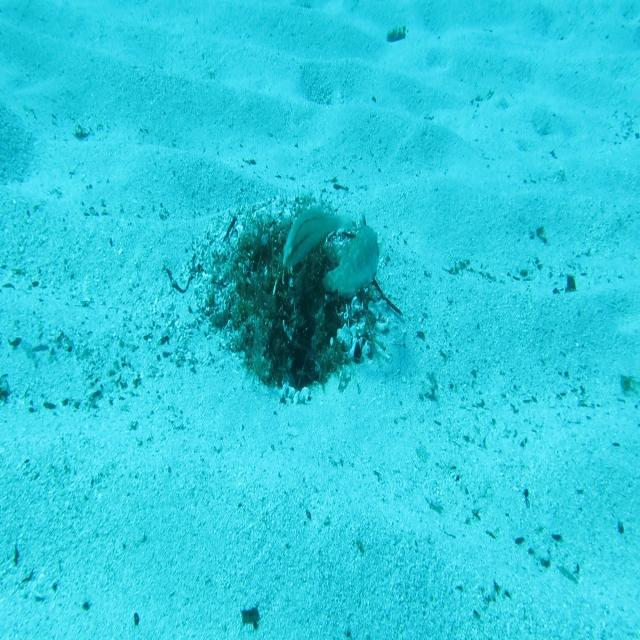DAN_CIRC: (320, 211, 390, 299)
core_nest: (268, 231, 321, 268)
female: (282, 202, 354, 270)
nest: (195, 182, 402, 414)
